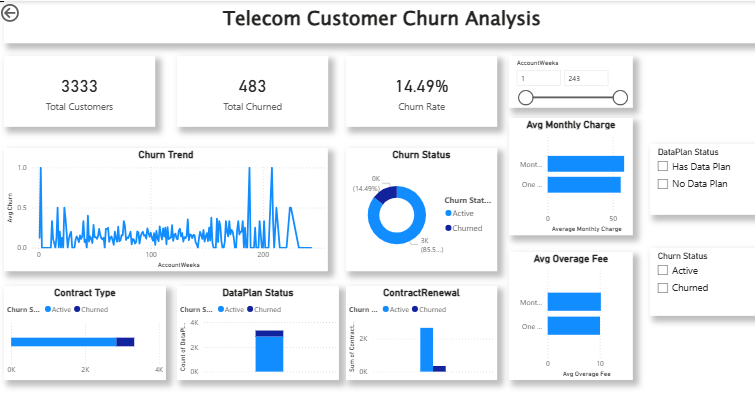

This screenshot's page, from the dashboard's own definition file:
{"tool":"powerbi","page":{"name":"Page 1","canvas":[1280,720],"ordinal":0},"visuals":[{"type":"textbox","box":[10.1,0,1269.9,70.6],"z":0},{"type":"card","fields":{"Values":["Customers.Total Customers"]},"box":[10.1,92.4,253.6,119.3],"z":1},{"type":"card","fields":{"Values":["Customers.Total Churned"]},"box":[300.7,92.4,253.6,119.3],"z":2},{"type":"card","fields":{"Values":["Customers.Churn Rate"]},"box":[584.6,92.4,253.6,119.3],"z":3},{"type":"lineChart","title":"Churn Trend","fields":{"Category":["Customers.AccountWeeks"],"Y":["Customers.Avg Churn"]},"box":[10.1,246.9,544.3,206.6],"z":4},{"type":"donutChart","title":"Churn Status","fields":{"Category":["Customers.Churn Status"],"Y":["Customers.Total Customers"]},"box":[584.6,246.9,253.6,206.6],"z":5},{"type":"barChart","title":"Contract Type","fields":{"Series":["Customers.Churn Status"],"Y":["CountNonNull(Customers.Contract Type)"]},"box":[10.1,478.7,272.1,157.9],"z":6},{"type":"columnChart","title":"DataPlan Status","fields":{"Y":["CountNonNull(Customers.DataPlan Status)"],"Series":["Customers.Churn Status"]},"box":[300.7,478.7,272.1,157.9],"z":7},{"type":"clusteredColumnChart","title":"ContractRenewal","fields":{"Y":["Sum(Customers.ContractRenewal)"],"Series":["Customers.Churn Status"]},"box":[584.6,478.7,253.6,157.9],"z":8},{"type":"actionButton","box":[0,0,100,40],"z":10},{"type":"slicer","fields":{"Values":["Customers.AccountWeeks"]},"box":[858.4,92.4,208.3,87.3],"z":11},{"type":"slicer","fields":{"Values":["Customers.DataPlan Status"]},"box":[1095.2,240.2,184.8,119.3],"z":12},{"type":"slicer","fields":{"Values":["Customers.Churn Status"]},"box":[1095.2,414.9,184.8,114.2],"z":13},{"type":"clusteredBarChart","title":"Avg Monthly Charge","fields":{"Y":["Customers.Average Monthly Charge"],"Category":["Customers.Contract Type"]},"box":[858.4,196.5,208.3,196.5],"z":14},{"type":"clusteredBarChart","title":"Avg Overage Fee","fields":{"Y":["Customers.Avg Overage Fee"],"Category":["Customers.Contract Type"]},"box":[858.4,421.6,208.3,215],"z":15}]}

Visuals, with their boxes on the page's 1280x720 design canvas (x1, y1, x2, y2). These are canvas units, not pixel positions in the 755x400 screenshot, which may show the page scaled, cropped or inside an application window:
textbox: <box>10,0,1280,71</box>
card - Customers.Total Customers: <box>10,92,264,212</box>
card - Customers.Total Churned: <box>301,92,554,212</box>
card - Customers.Churn Rate: <box>585,92,838,212</box>
"Churn Trend" lineChart: <box>10,247,554,454</box>
"Churn Status" donutChart: <box>585,247,838,454</box>
"Contract Type" barChart: <box>10,479,282,637</box>
"DataPlan Status" columnChart: <box>301,479,573,637</box>
"ContractRenewal" clusteredColumnChart: <box>585,479,838,637</box>
actionButton: <box>0,0,100,40</box>
slicer - Customers.AccountWeeks: <box>858,92,1067,180</box>
slicer - Customers.DataPlan Status: <box>1095,240,1280,360</box>
slicer - Customers.Churn Status: <box>1095,415,1280,529</box>
"Avg Monthly Charge" clusteredBarChart: <box>858,196,1067,393</box>
"Avg Overage Fee" clusteredBarChart: <box>858,422,1067,637</box>
